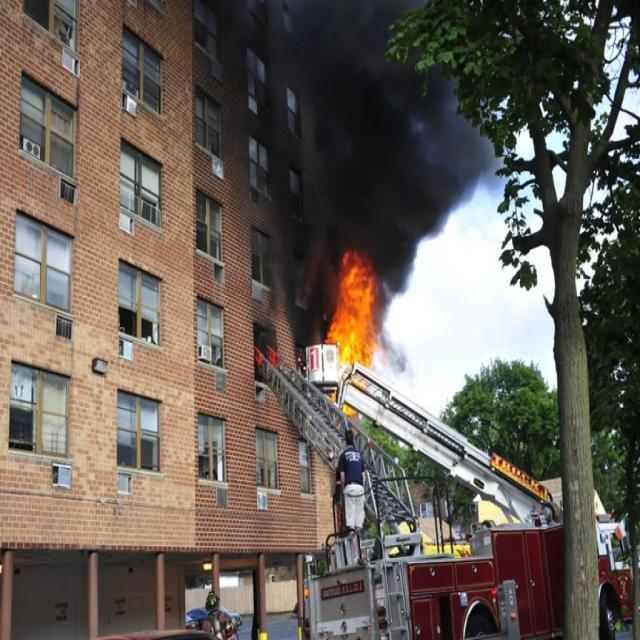Fire: (326, 253, 378, 368)
Smoke: (272, 0, 497, 336)
